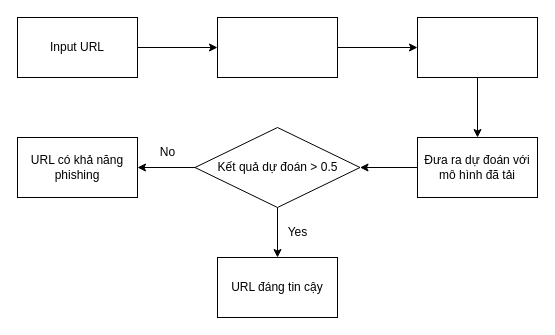
Some shapes in this 555 by 335 pixel diagram are drawn without their labels. Here are the shapes that lost their labels. From the top down, the box of each, then its label:
(216, 16, 338, 78): Chuyển đổi URL thành vetor số nguyên
(416, 16, 538, 78): Tải mô hình đã huấn luyện trước
